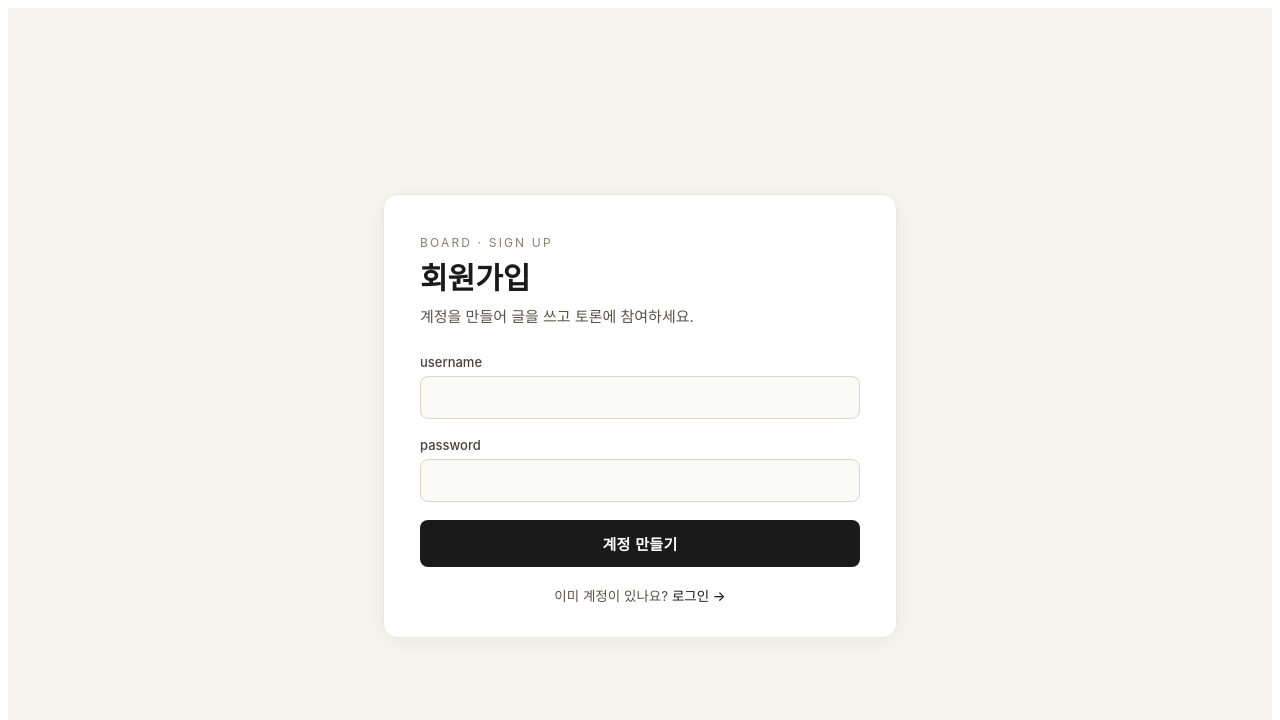
Test: SignupPage › 중복_username_400_응답이_오면_서버_메시지를_그대로_렌더한다
Step 1. Type "marco" into the field labelled "username" → [640, 397], box top-left (420, 376), bottom-right (860, 419)
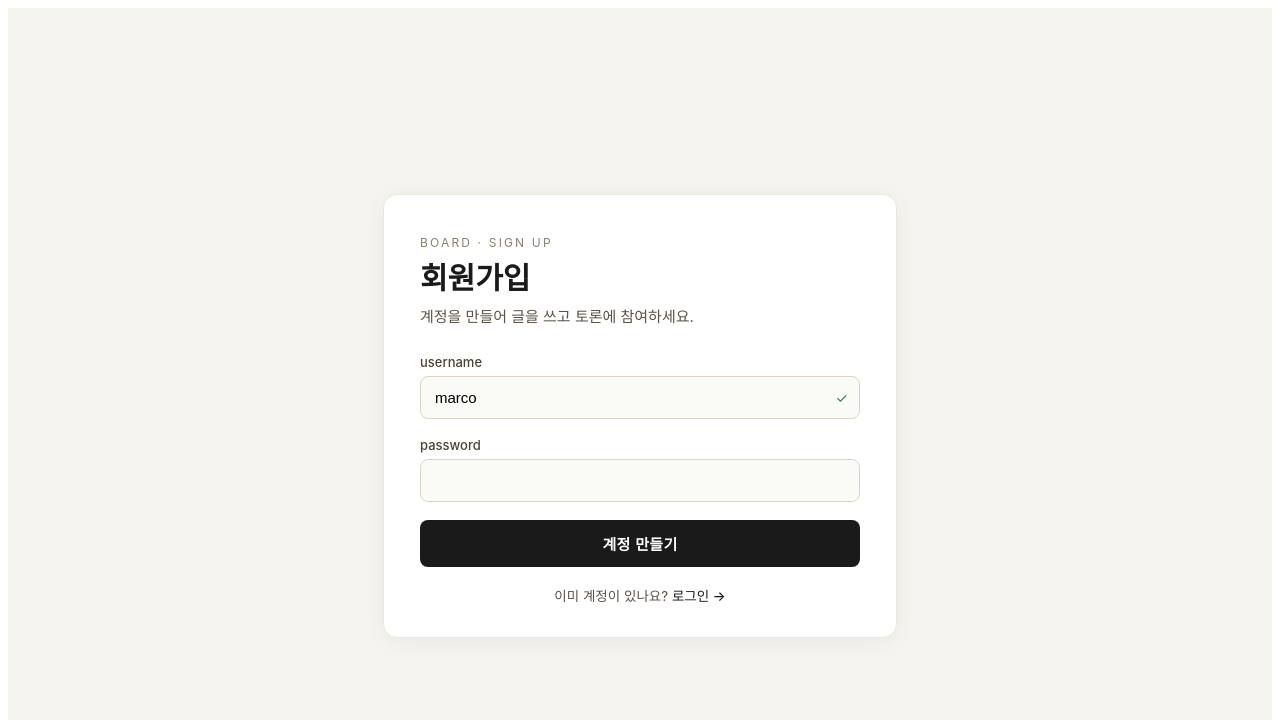
Step 2. Type "pw12345" into the password field labelled "password" → [640, 480], box top-left (420, 459), bottom-right (860, 502)
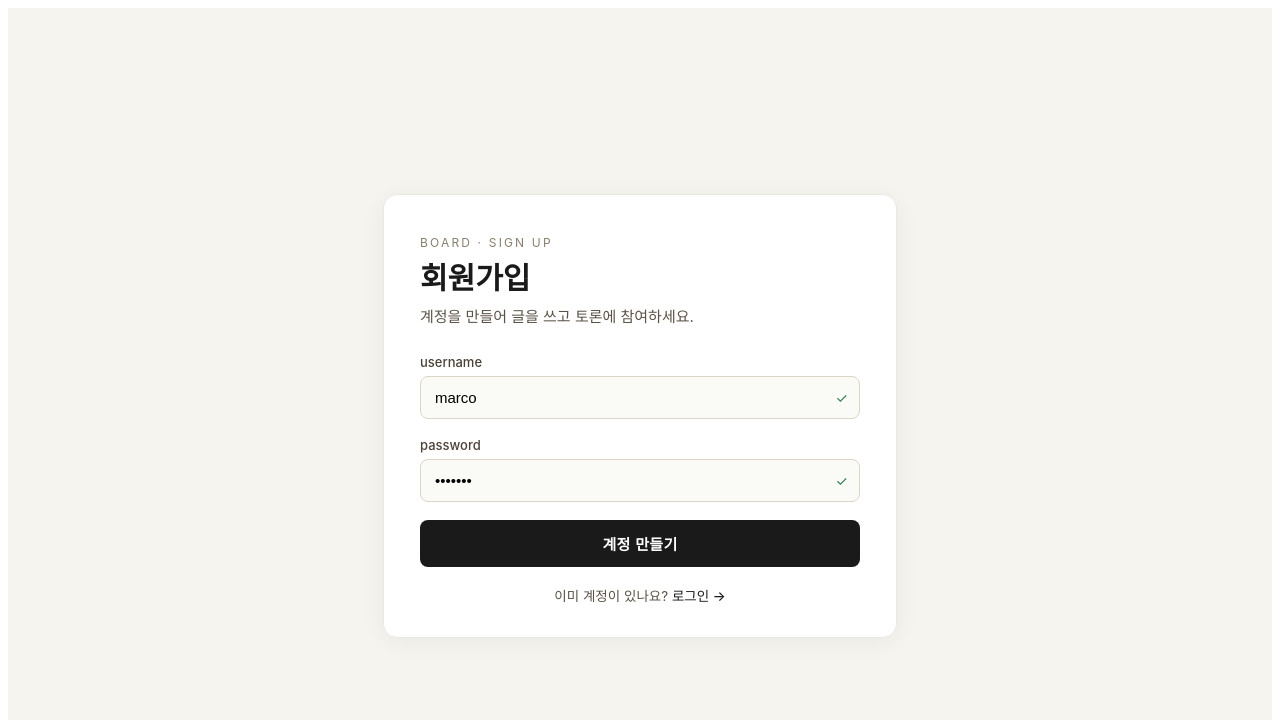
Step 3. Click the button "계정 만들기" → [640, 543], box top-left (420, 520), bottom-right (860, 567)
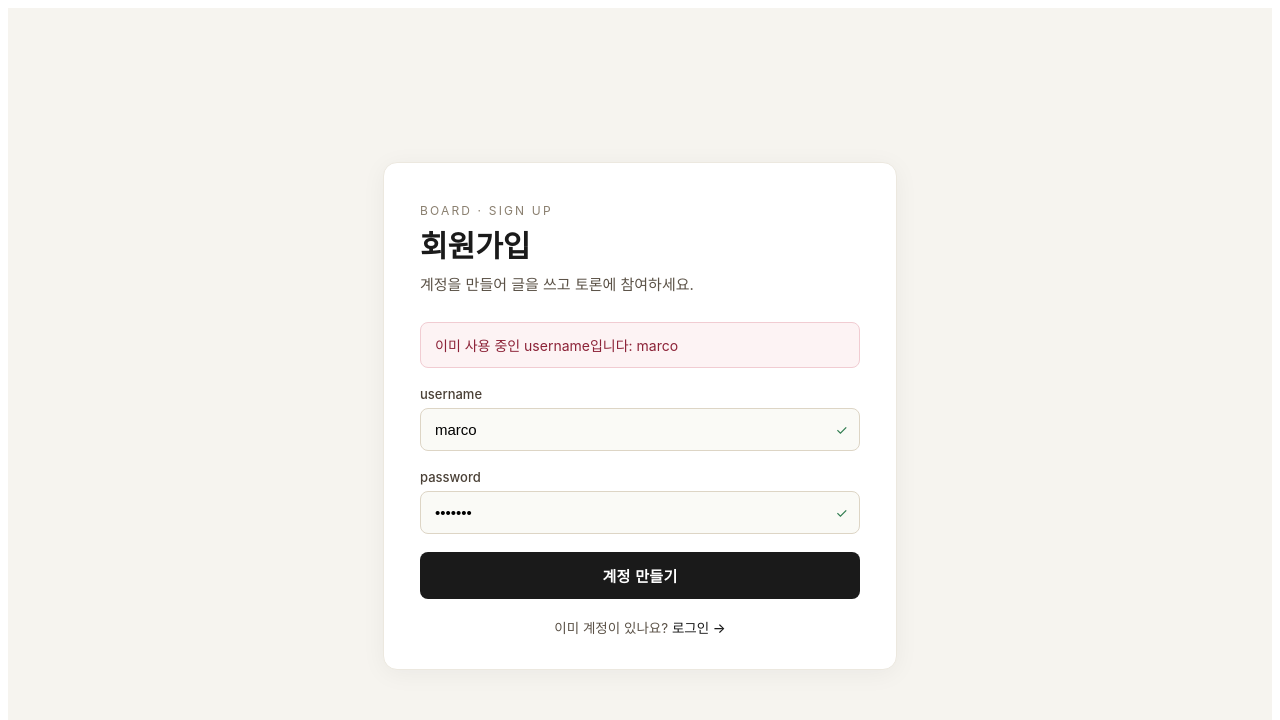
Result: the text "이미 사용 중인 username입니다: marco" is shown at top-left (420, 322), bottom-right (860, 368)
